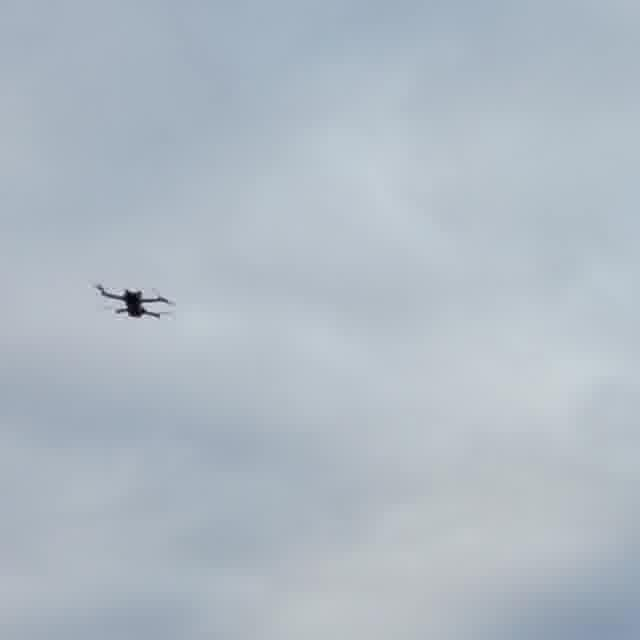Drohne: (95, 284, 173, 318)
